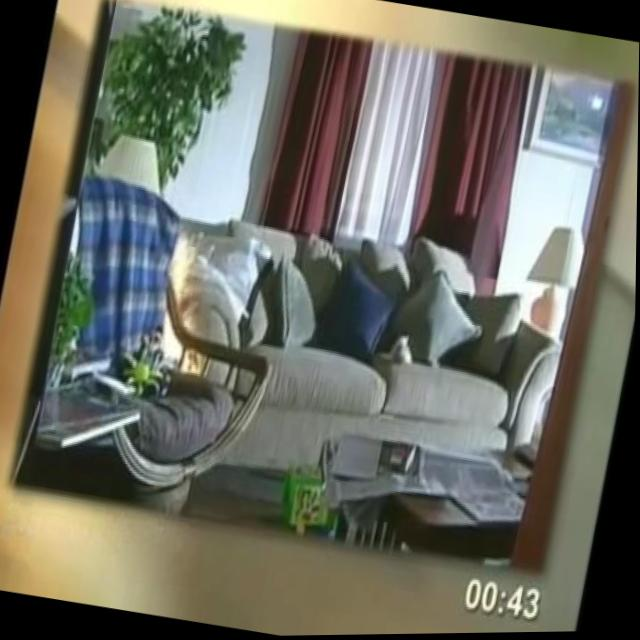fire: (156, 238, 220, 378)
